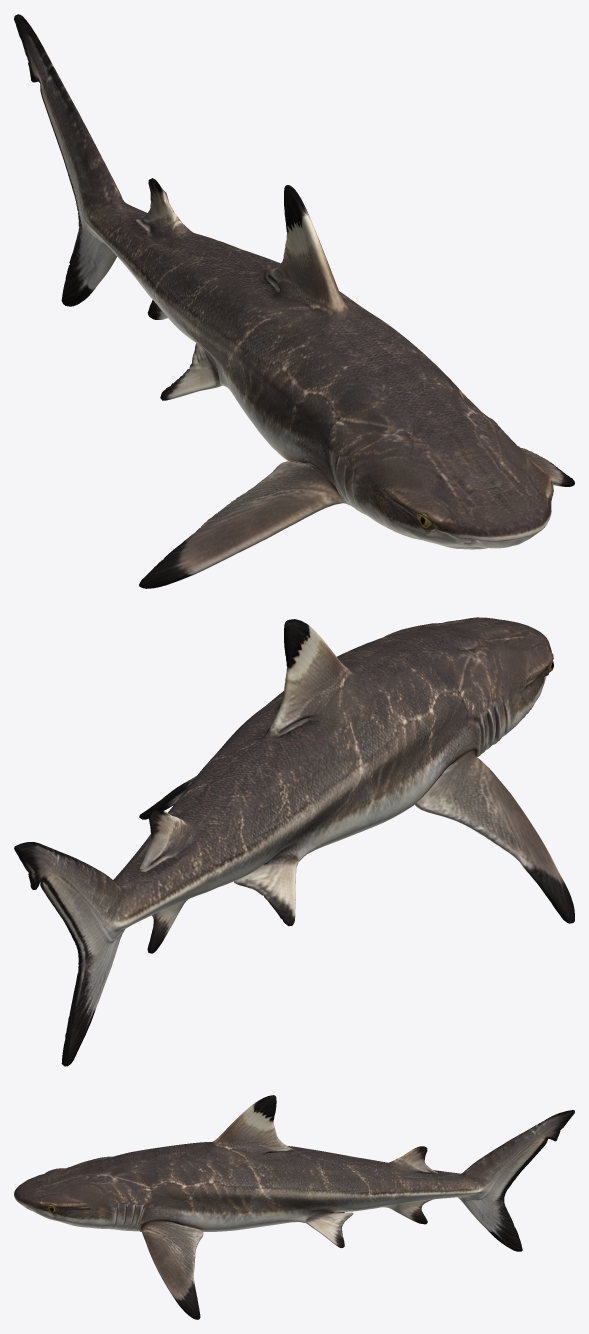
Rendered from TigerShark.obj.
3 views of the same model, one above another, from view 1: azimuth 30°, elevation 25°; view 2: azimuth 150°, elevation 25°; view 3: azimuth 270°, elevation 25° (orthographic). The views are drawn at different scales.
Size of the model in its own units: 0.495 by 0.3273 by 1.
Materials: 1 (1 with a texture image).
